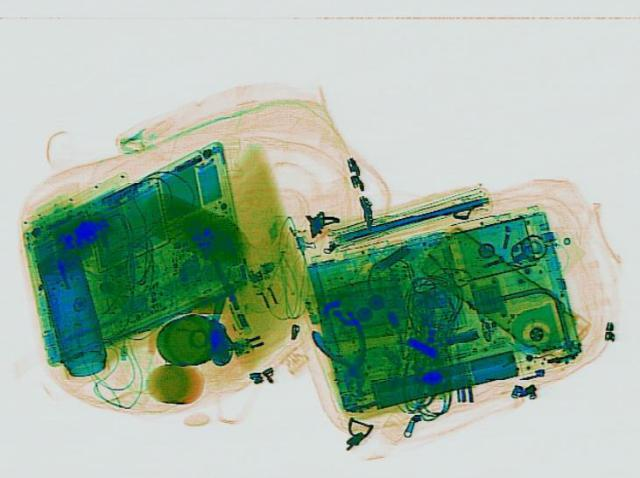Pliers: (308, 320, 382, 395)
